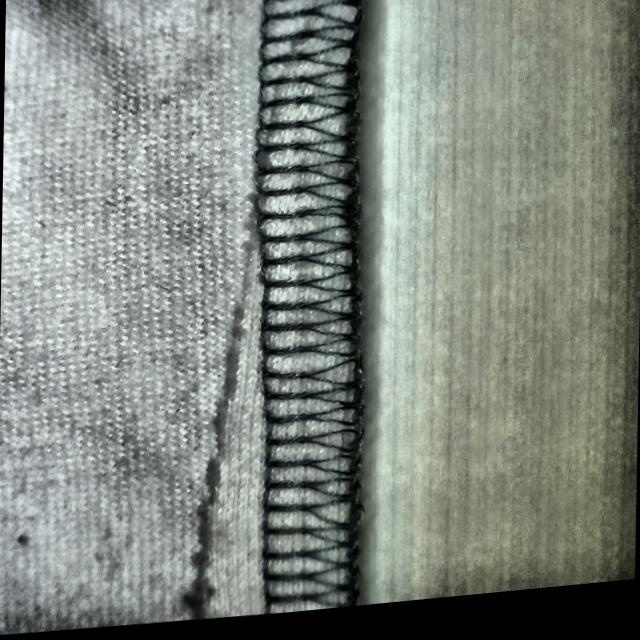seam: (137, 200, 391, 626)
